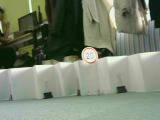speed_20: (81, 46, 98, 65)
